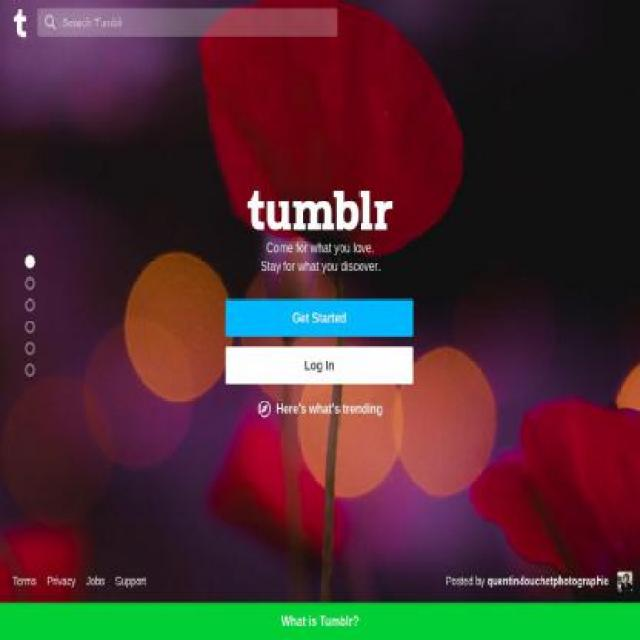button: (225, 298, 413, 337), (225, 346, 413, 385), (221, 398, 414, 422), (445, 571, 610, 592), (0, 0, 38, 43), (44, 571, 79, 592), (9, 571, 40, 592), (83, 571, 108, 592)
field: (38, 8, 338, 37)
